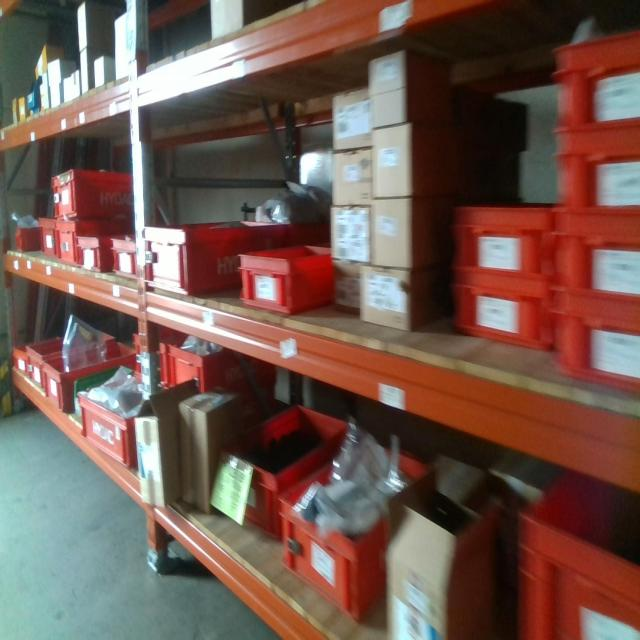small_load_carrier: (276, 418, 439, 626), (503, 466, 638, 638), (218, 396, 357, 537), (141, 211, 306, 307), (547, 19, 639, 137), (447, 263, 555, 355), (448, 195, 556, 278), (549, 298, 640, 394), (42, 336, 141, 424), (553, 133, 640, 233), (237, 234, 336, 318), (75, 382, 162, 475), (552, 218, 638, 307), (167, 337, 248, 410), (48, 167, 148, 215), (21, 331, 63, 399), (58, 219, 113, 269), (110, 224, 149, 285), (154, 327, 175, 383), (8, 341, 36, 383), (77, 234, 107, 272), (38, 211, 59, 263)
